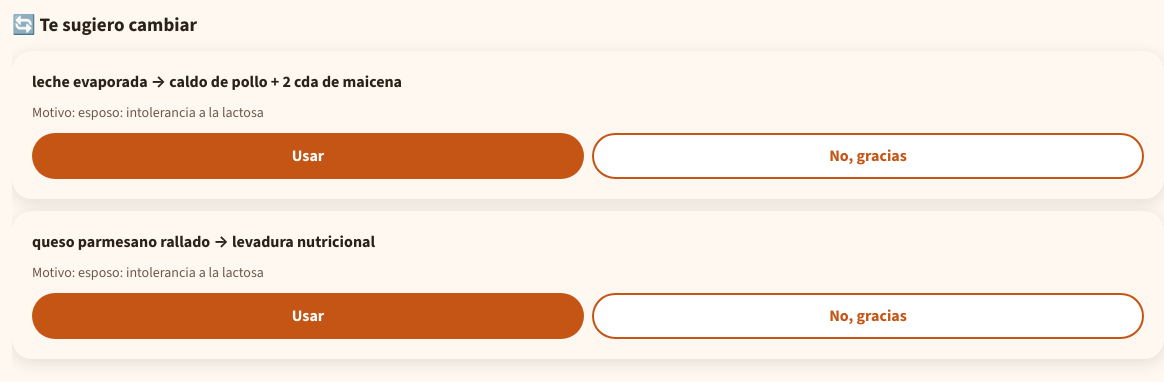
Test: SubstitutionHints › "No, gracias" deja de proponerla (CA-24.2)
This screenshot has width=1164, height=382.
Step 1. Click the 1st button "No, gracias" → click(868, 156), box [592, 133, 1144, 179]
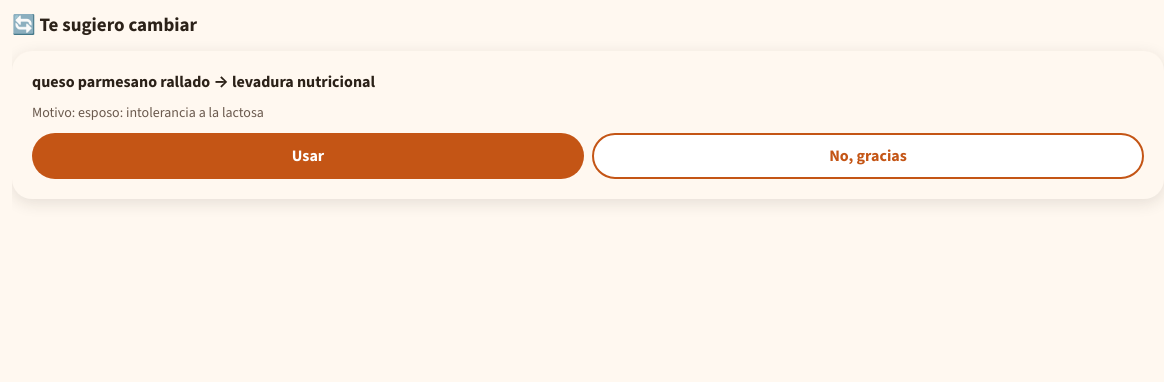
Expected: the text "leche evaporada" is gone
